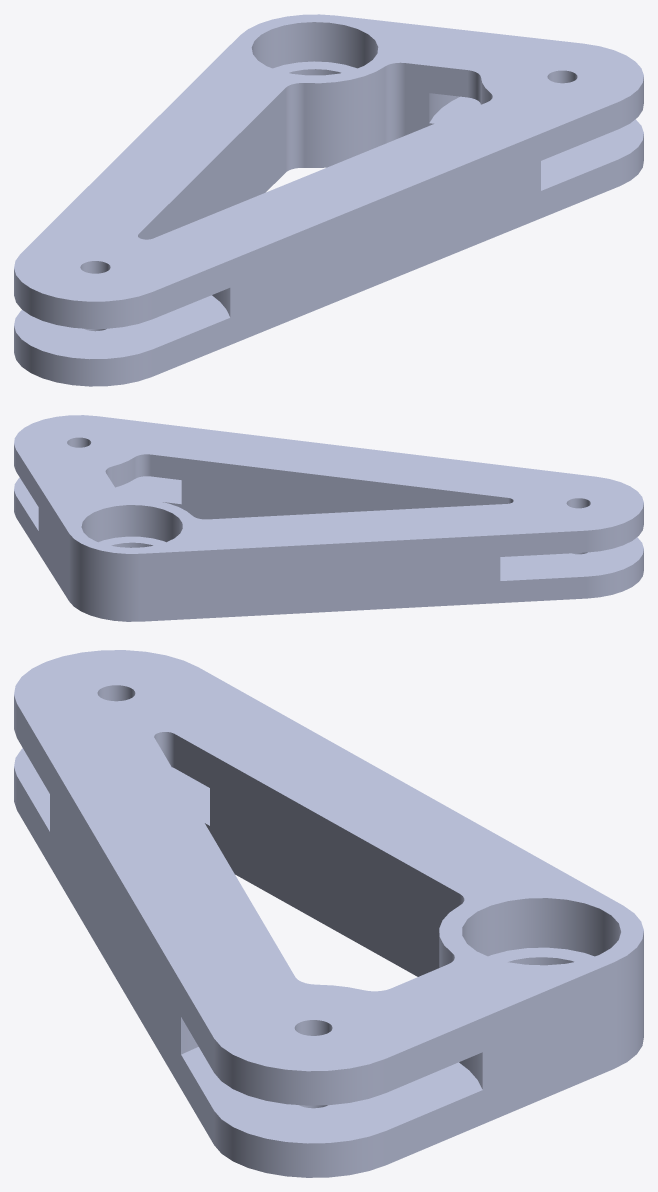
Rendered from LINK_PLATE2.glb.
3 renders of one model, top to bottom at view 1: azimuth 30°, elevation 25°; view 2: azimuth 150°, elevation 25°; view 3: azimuth 270°, elevation 25°, orthographic. The views are drawn at different scales.
Visible parts, largest first — view 1: LINK_PLATE2; view 2: LINK_PLATE2; view 3: LINK_PLATE2.
Part boxes in pixels (x1,y1,x2,y2): LINK_PLATE2: (14, 14, 643, 386); LINK_PLATE2: (14, 415, 643, 621); LINK_PLATE2: (14, 650, 643, 1177).
Size of the model in its own units: 0.1312 by 0.0155 by 0.0829.
